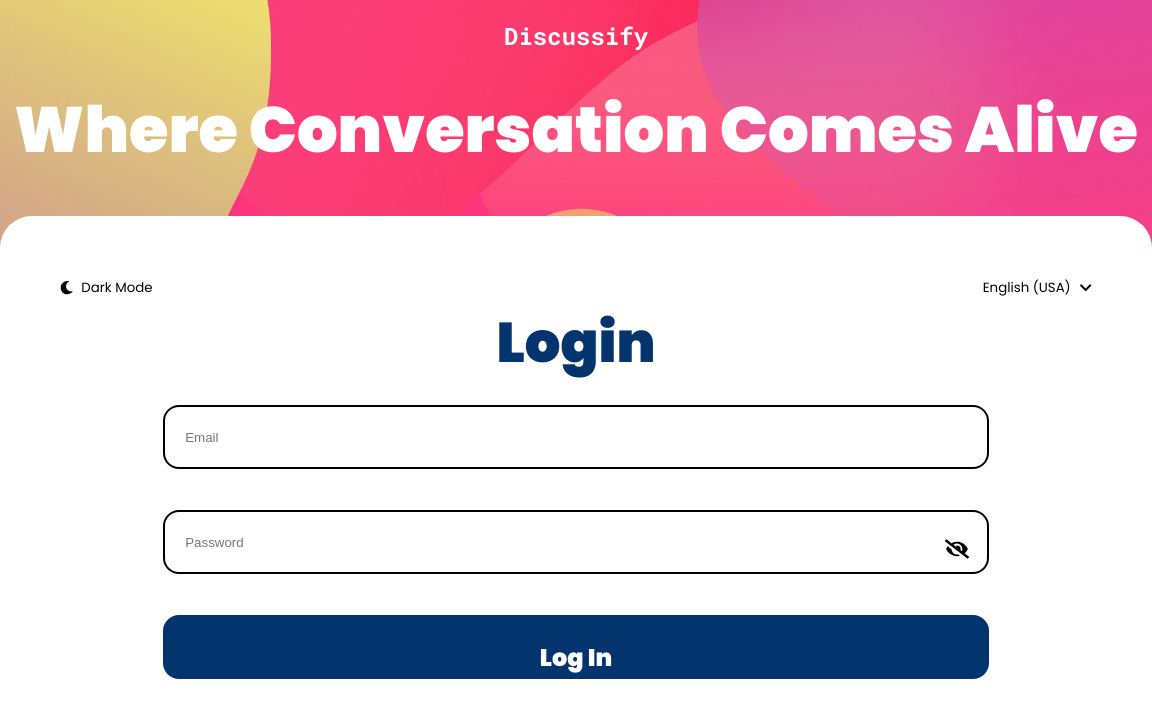
Test case: Login spec › should display error text when email is empty
The image size is (1152, 701).
Click the button "Log In".
click(576, 647)  # box x1=163 y1=615 x2=989 y2=679
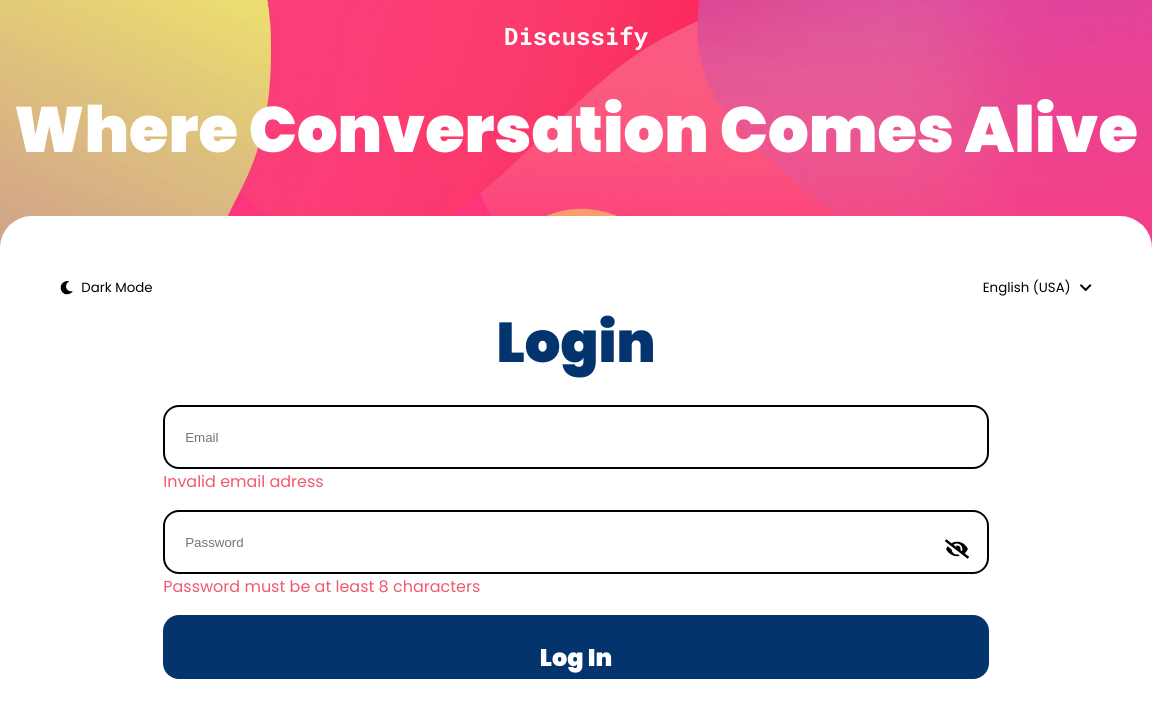
Result: the text "Invalid email adress" is shown at x1=163 y1=470 x2=324 y2=493
